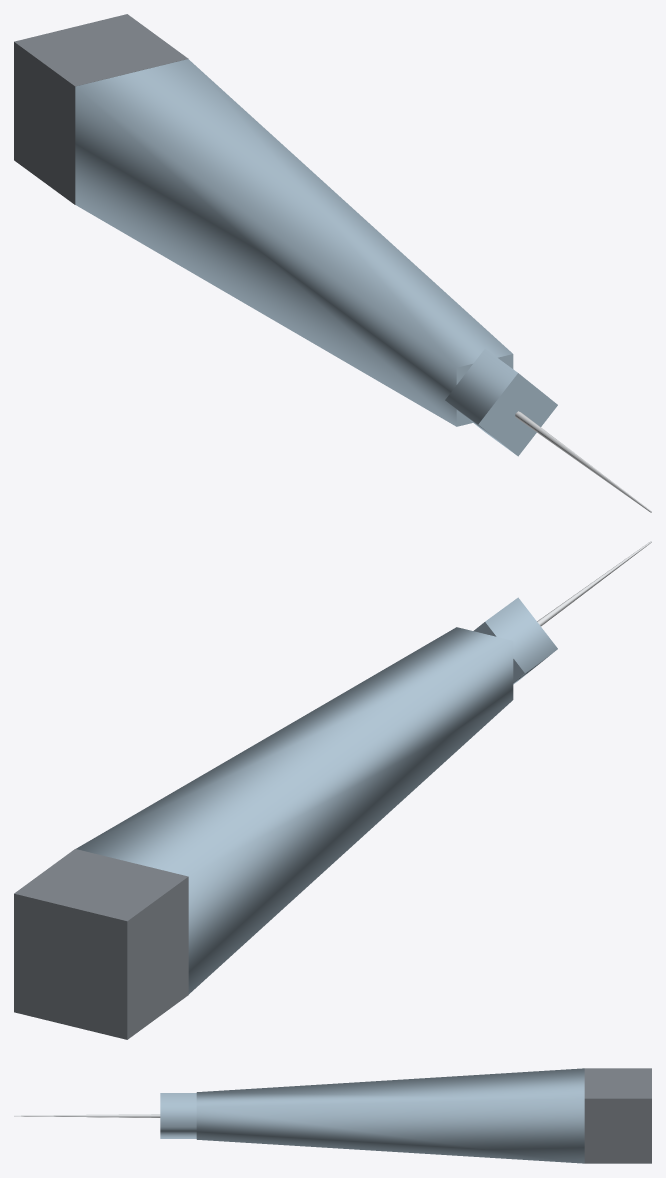
File: one-wtc.glb
3 views of the same model, one above another, from view 1: azimuth 30°, elevation 25°; view 2: azimuth 150°, elevation 25°; view 3: azimuth 270°, elevation 25° (orthographic). The views are drawn at different scales.
Size of the model in its own units: 61 by 61 by 541.
